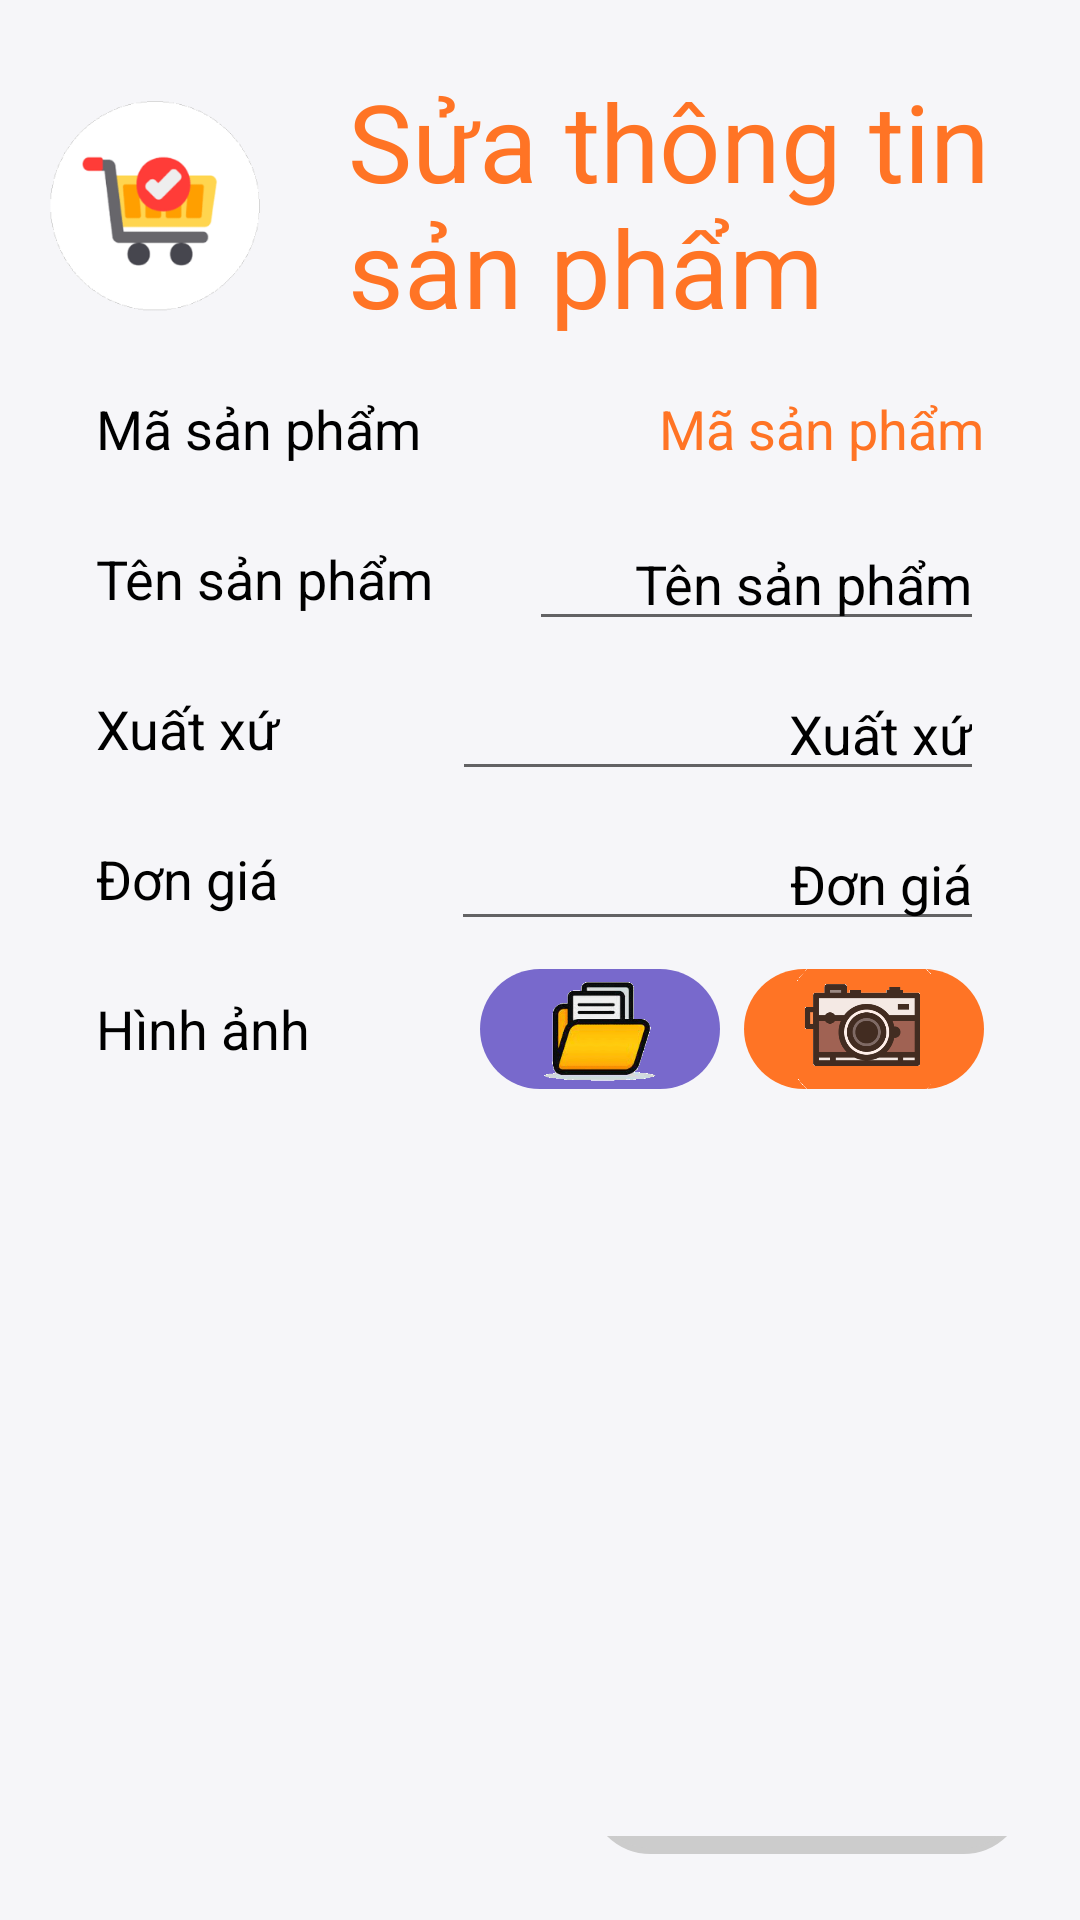

Screen size 1080 x 1920. Icon name, then its center in pixels as (x=x, y=y):
camera: (x=864, y=1029)
folder: (x=600, y=1029)
